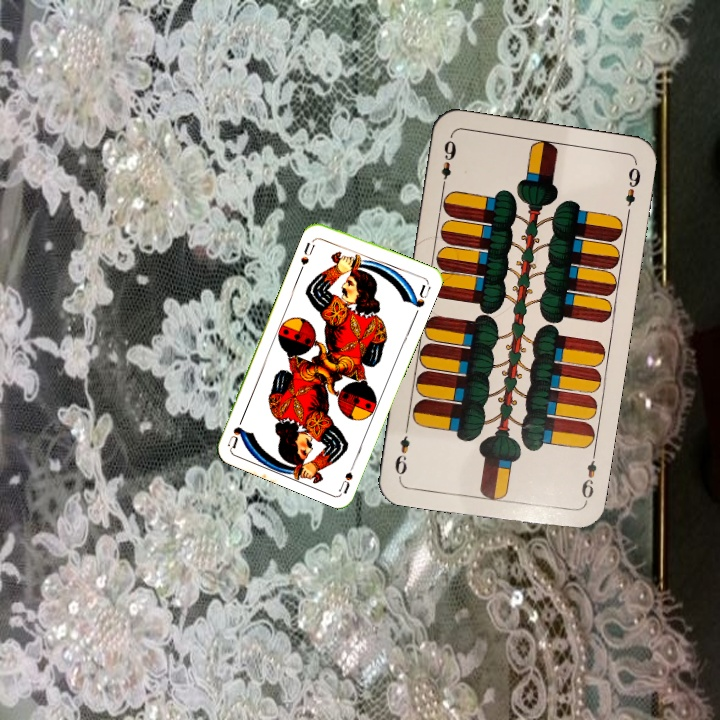E9: (577, 448, 600, 507), (437, 133, 459, 192)
SU: (335, 455, 359, 495), (296, 238, 317, 267)
